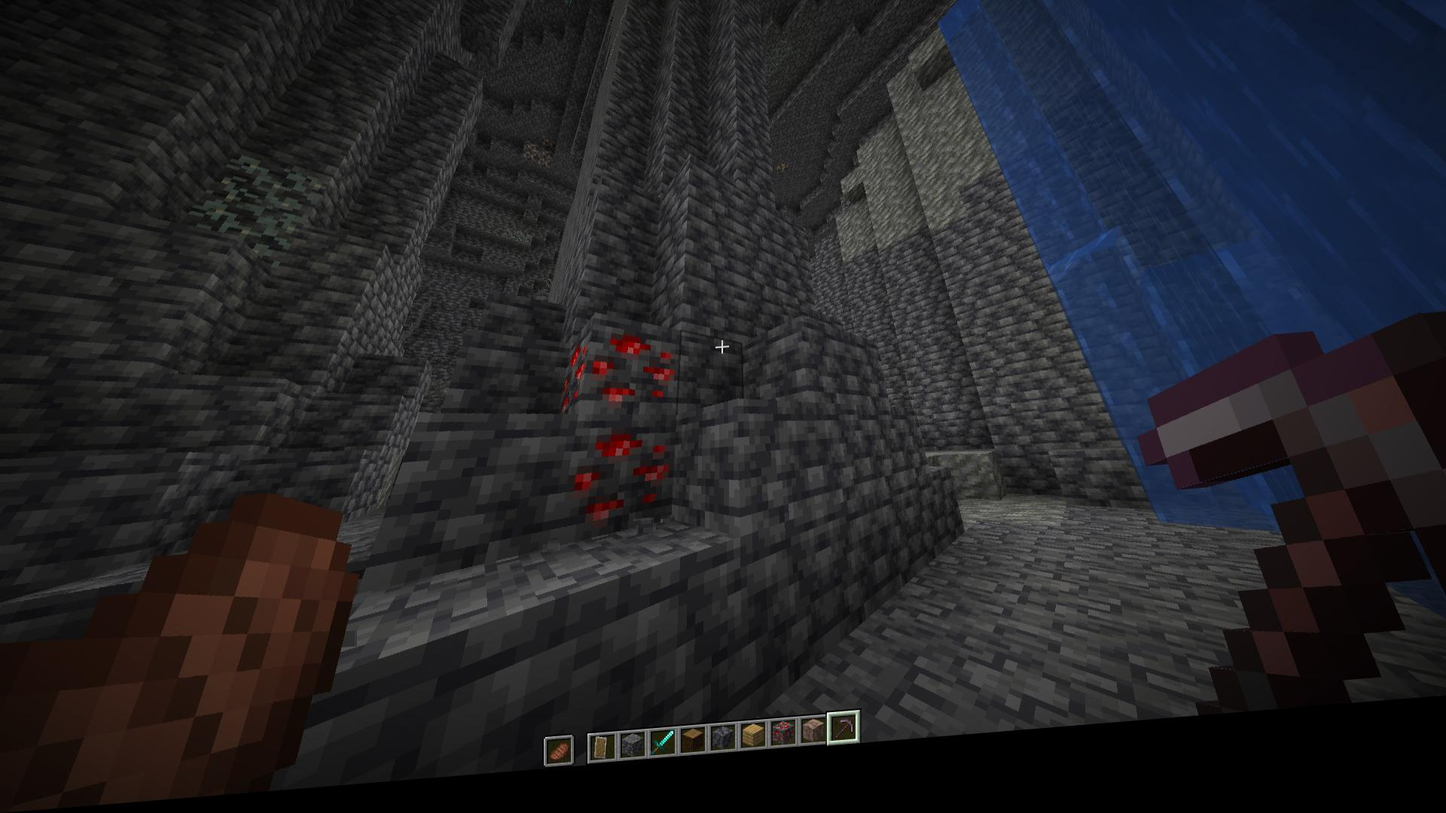diamond ore: (551, 0, 575, 18)
iron ore: (524, 148, 556, 177)
redstone ore: (560, 326, 683, 439), (563, 433, 675, 544)
